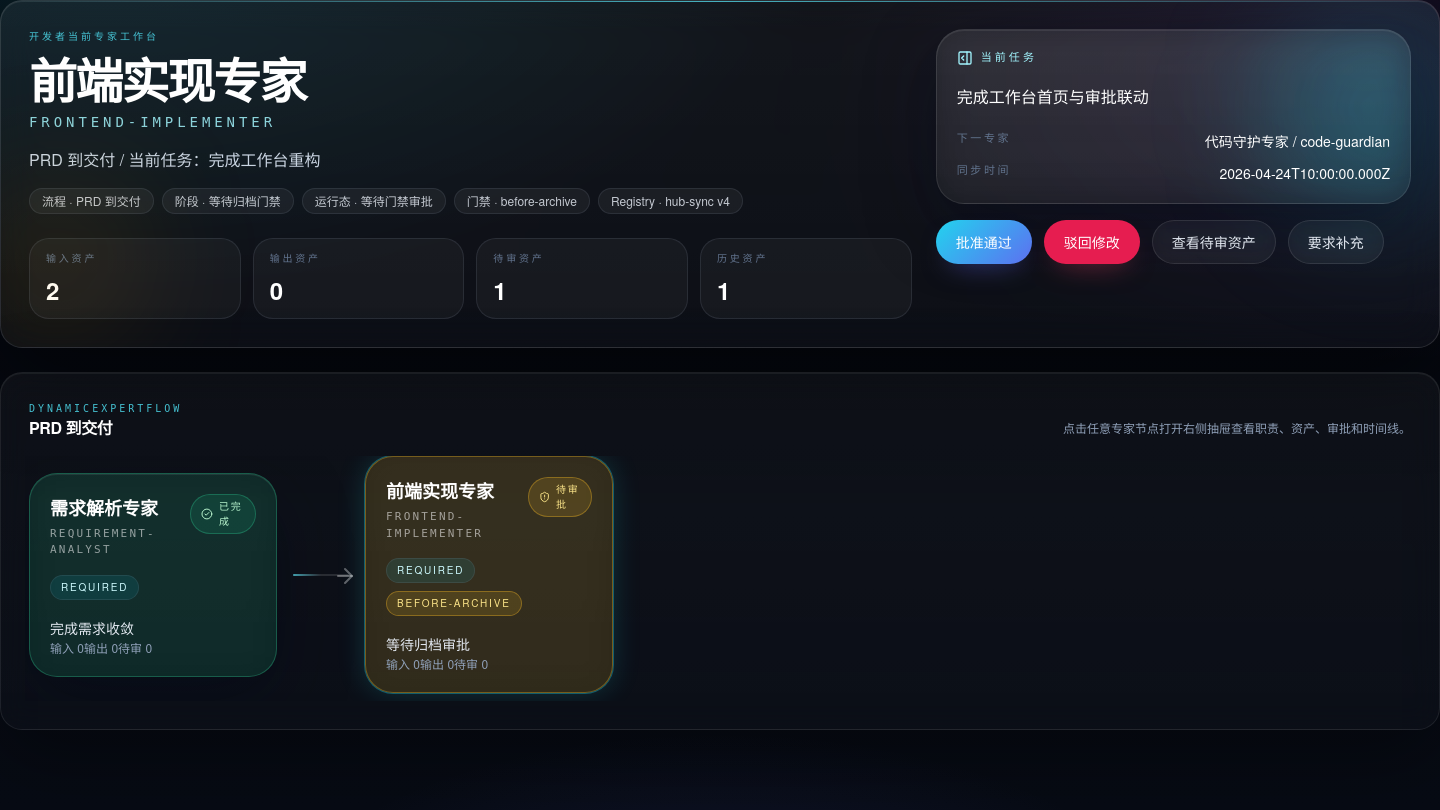
Test case: CurrentExpertWorkspace › 点击节点后打开右侧抽屉，不跳转页面
The width and height of the screenshot is (1440, 810).
Step 1. Click the button "前端实现专家" → click(489, 574), box [365,456,613,693]
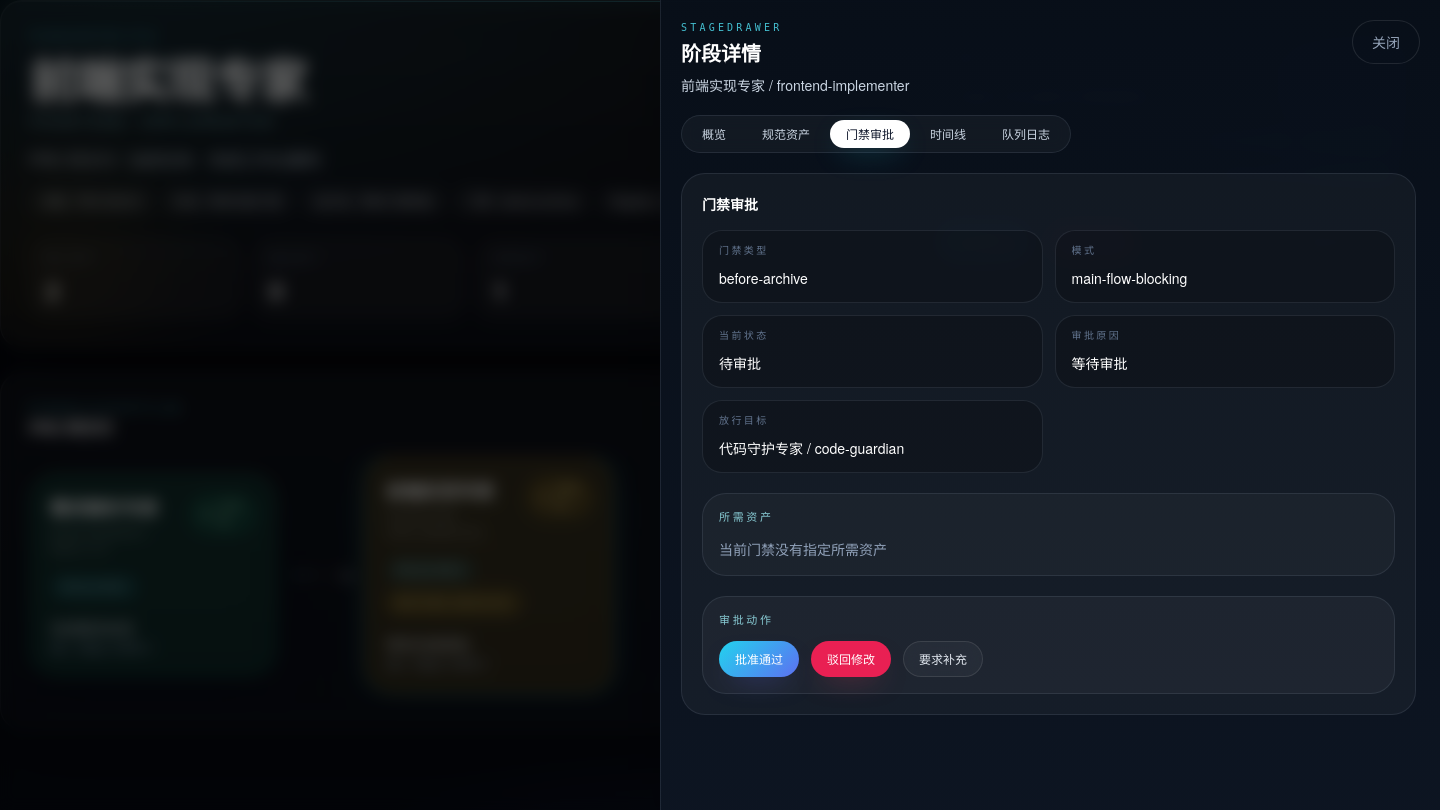
expect the heading "阶段详情" is shown: met, box [681,38,761,67]
